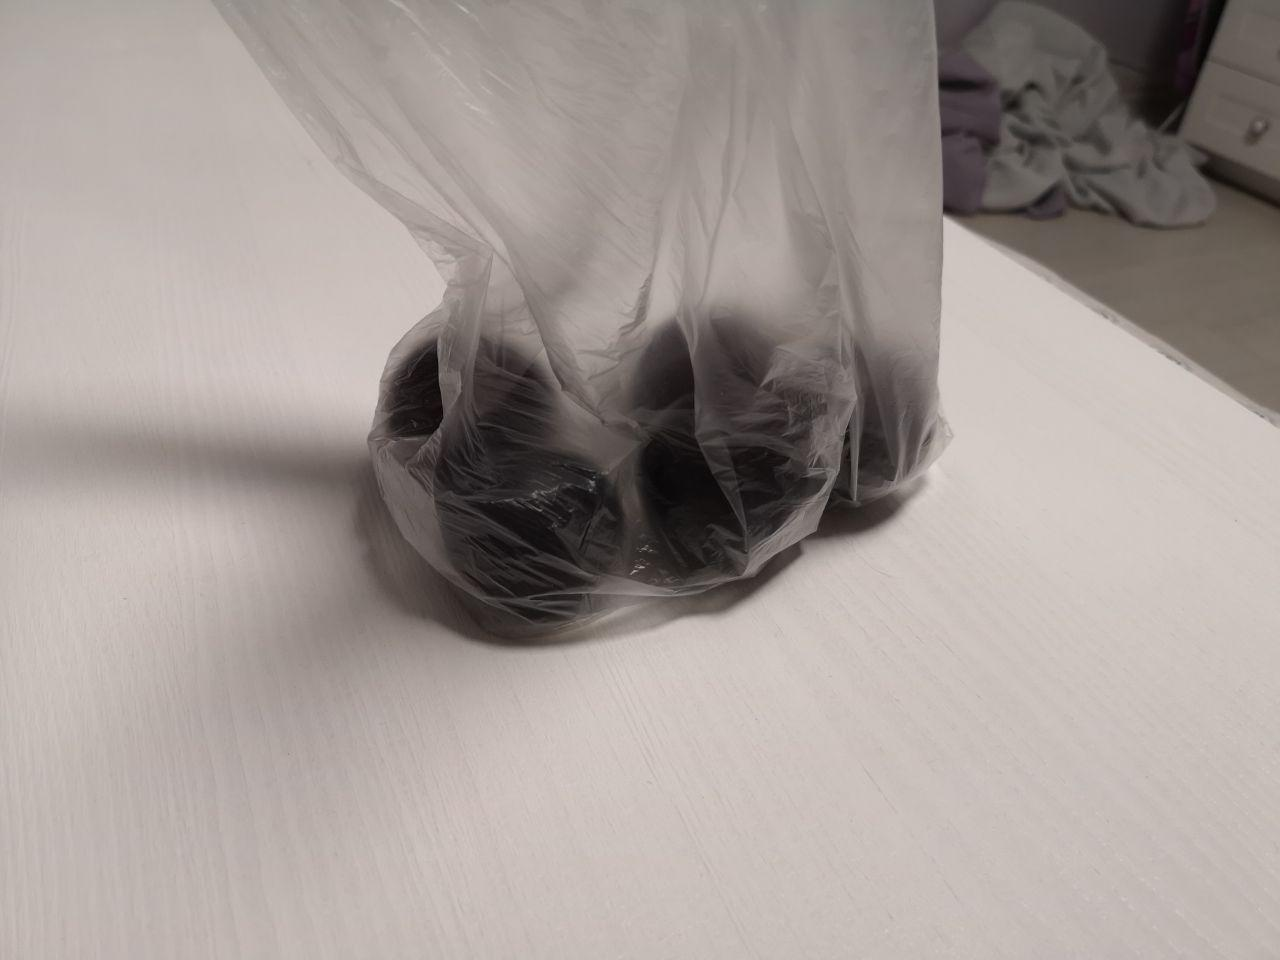plum: (310, 237, 983, 665)
